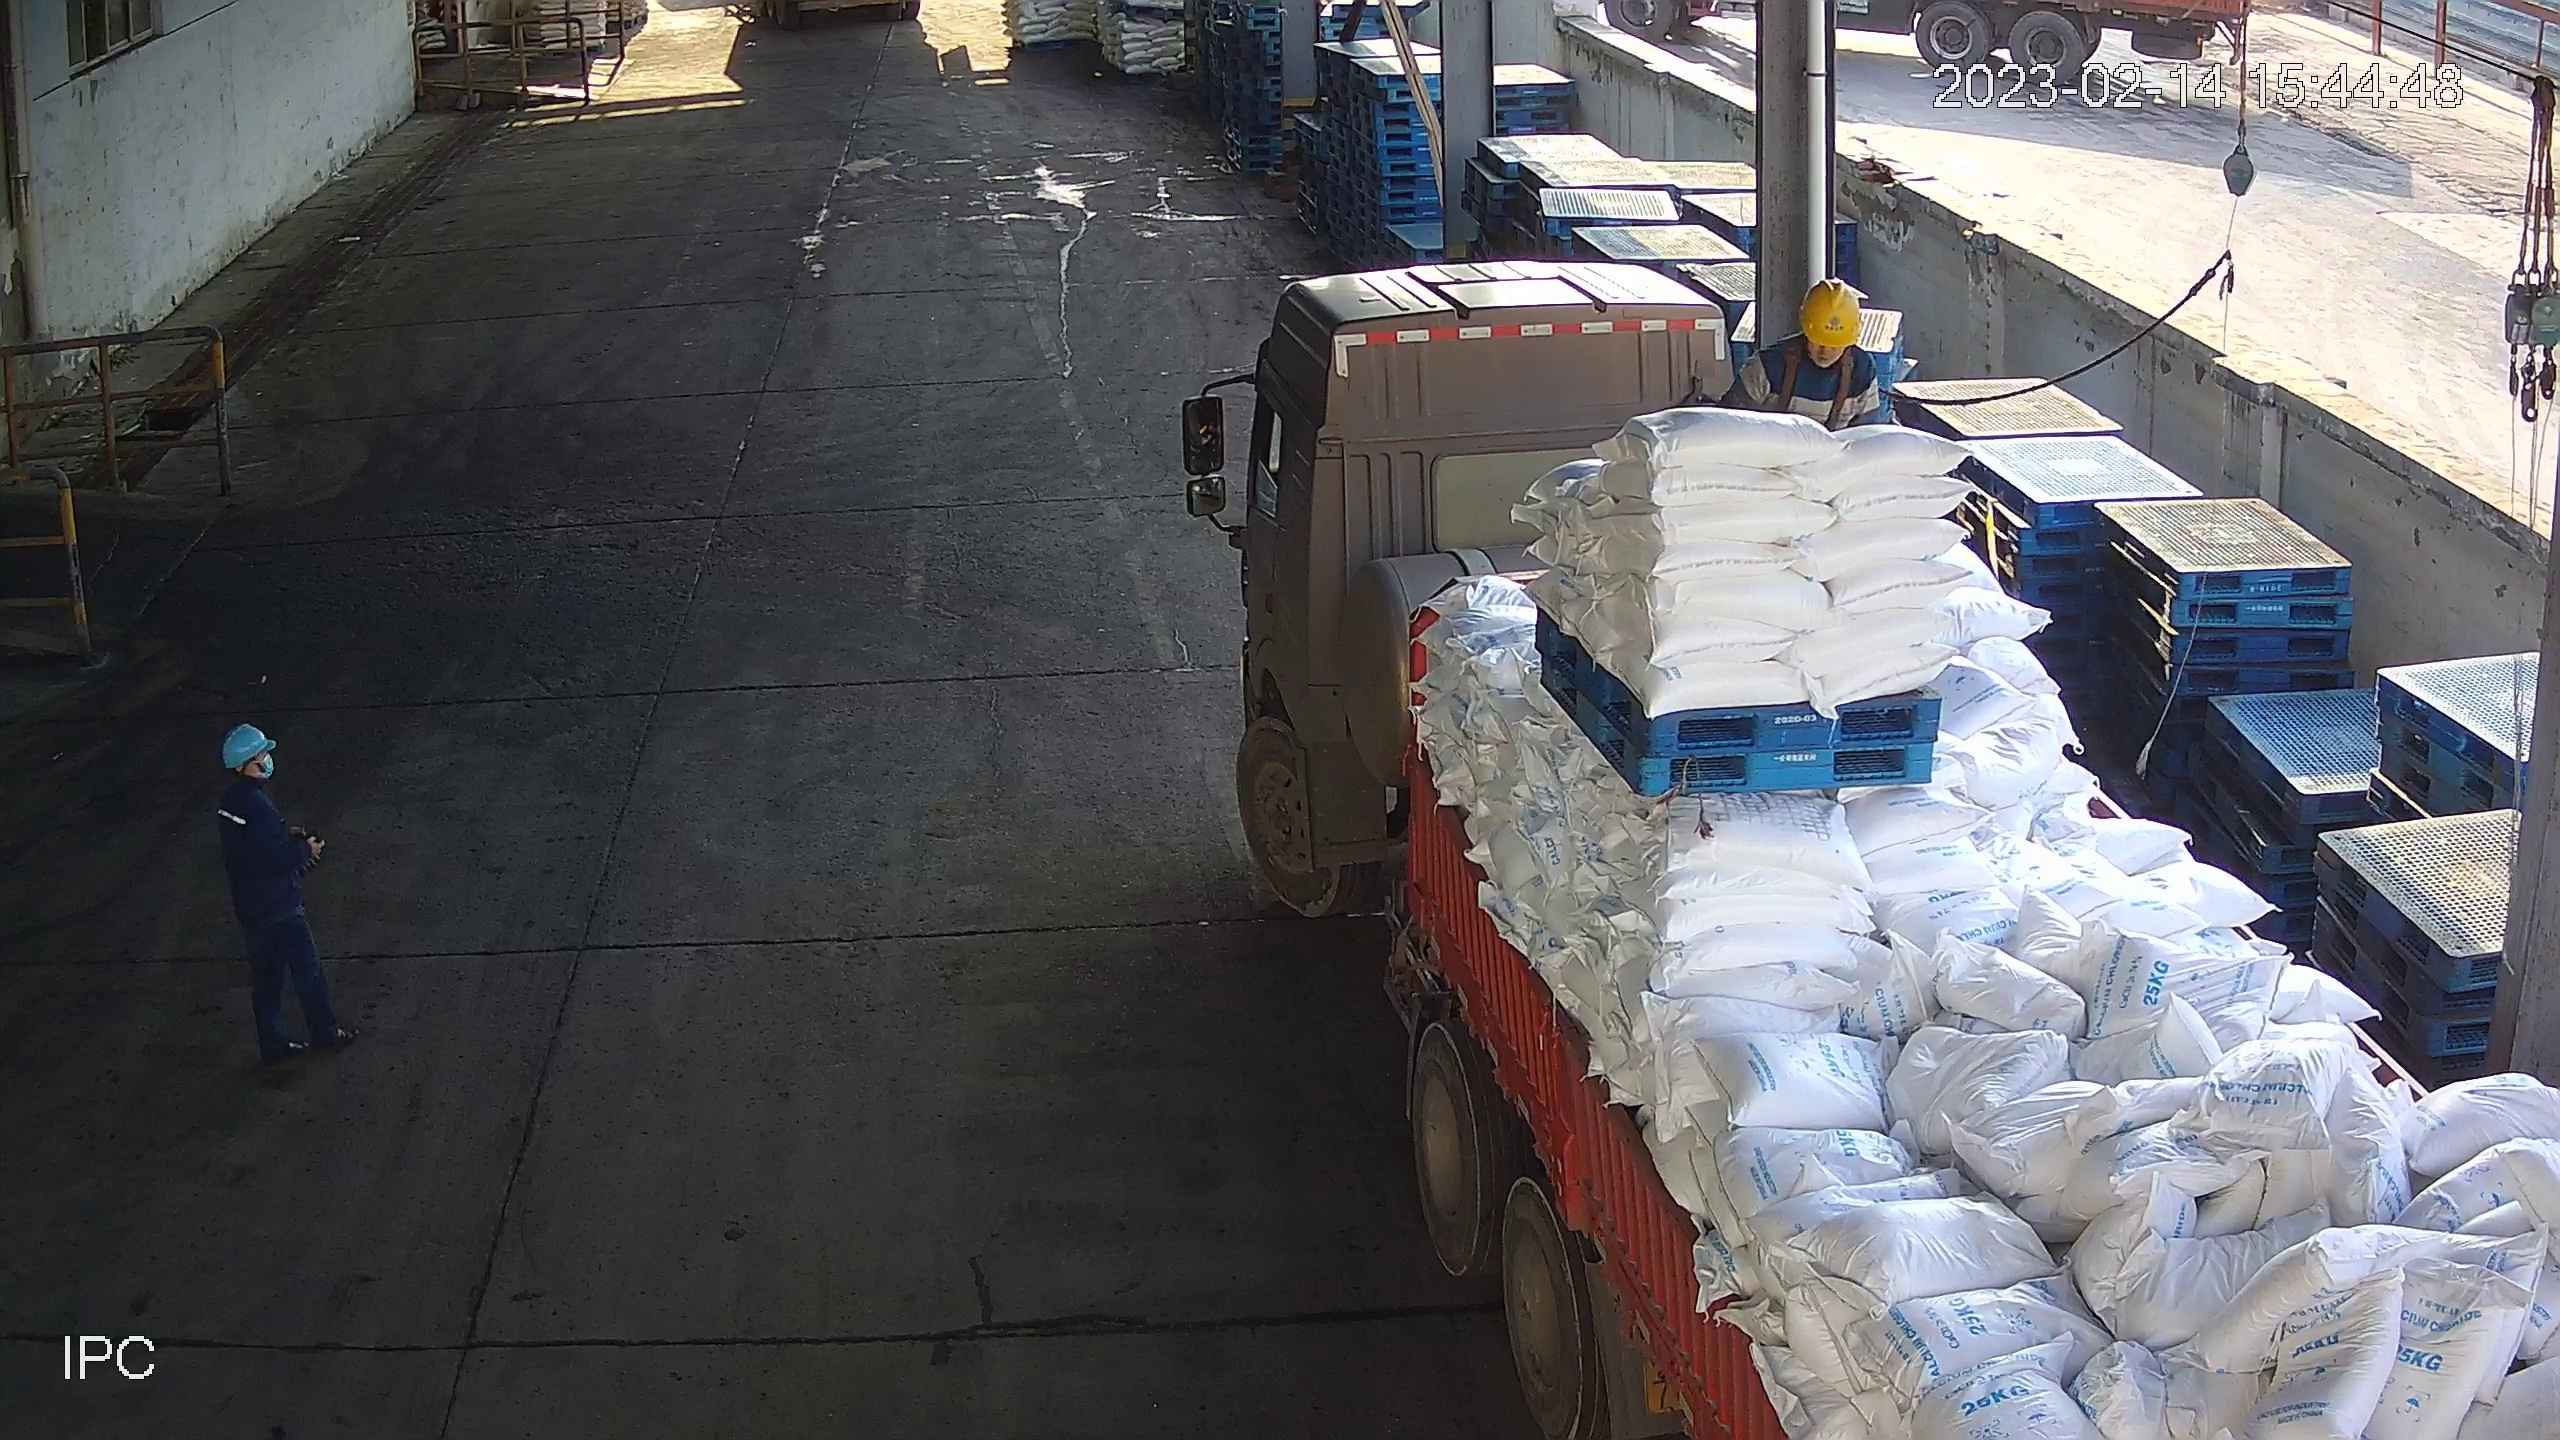belt: (1781, 365, 1855, 425)
head: (1758, 279, 1879, 385), (211, 727, 286, 829)
helmet: (1797, 279, 1863, 348), (216, 723, 277, 774)
people: (206, 723, 358, 1065)
truck: (1183, 248, 2560, 1440)
